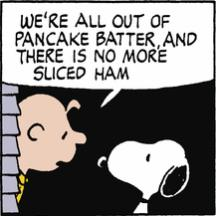snoopy: (15, 92, 88, 206), (96, 138, 191, 216)
